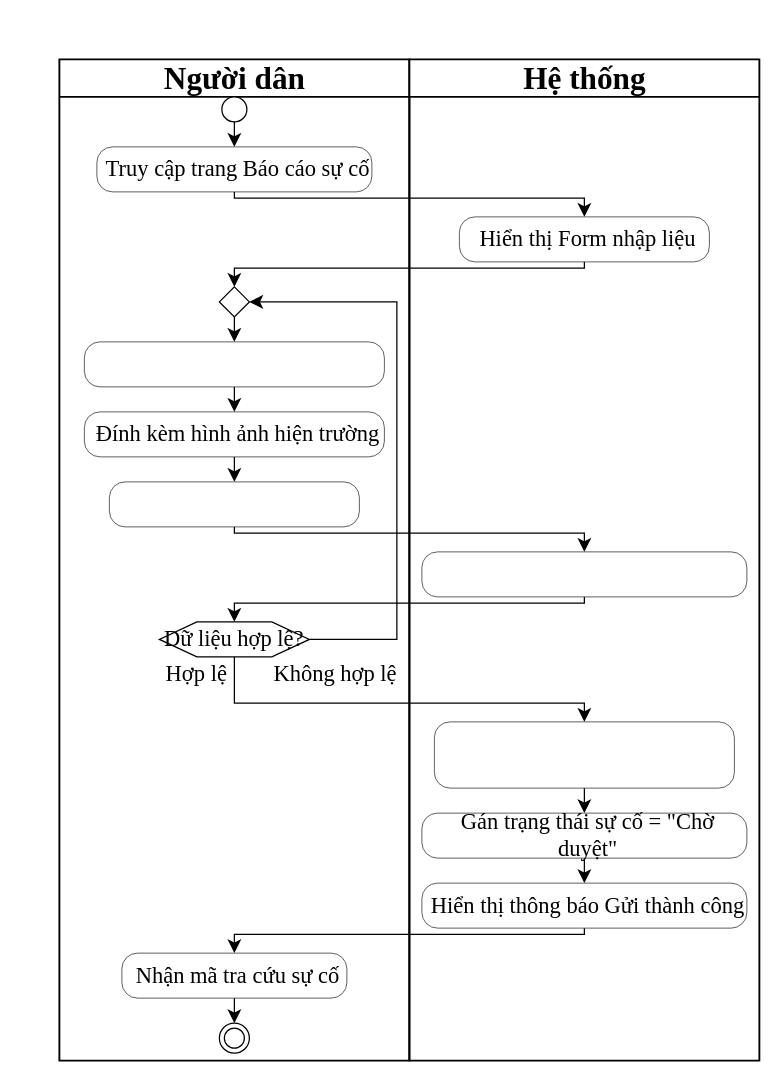
This 783x1084 diagram has some shape labels left out. The shapes that lost their labels are listed below. From the top down, each one's centre as x and y in pixels, then its label:
point 234,364: Nhập thông tin (Loại sự cố, Địa chỉ, Mô tả)
point 233,504: Bấm nút "Gửi Báo Cáo"
point 584,574: Kiểm tra dữ liệu (Validate form)
point 584,754: Lưu thông tin vào CSDL (Bảng SU_CO & HINH_ANH)
